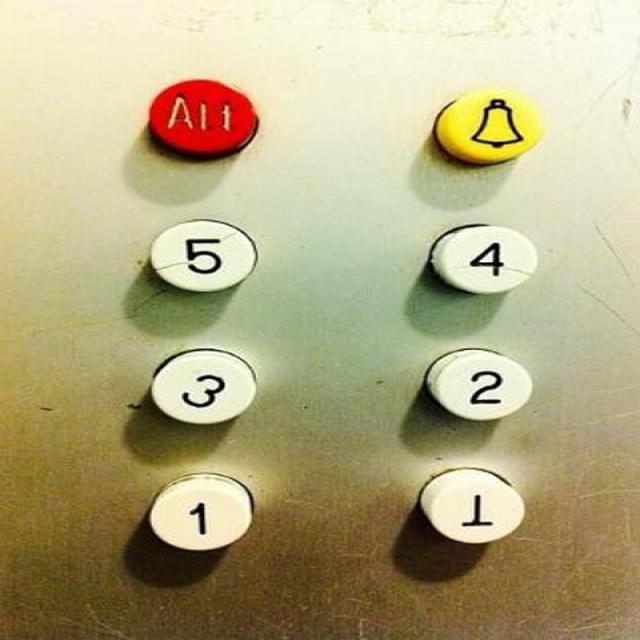1: (143, 470, 255, 552)
2: (419, 347, 536, 422)
3: (146, 346, 258, 429)
4: (423, 220, 540, 296)
5: (141, 216, 259, 292)
alarm: (427, 84, 545, 167)
unknown: (139, 74, 261, 165), (414, 463, 526, 546)
